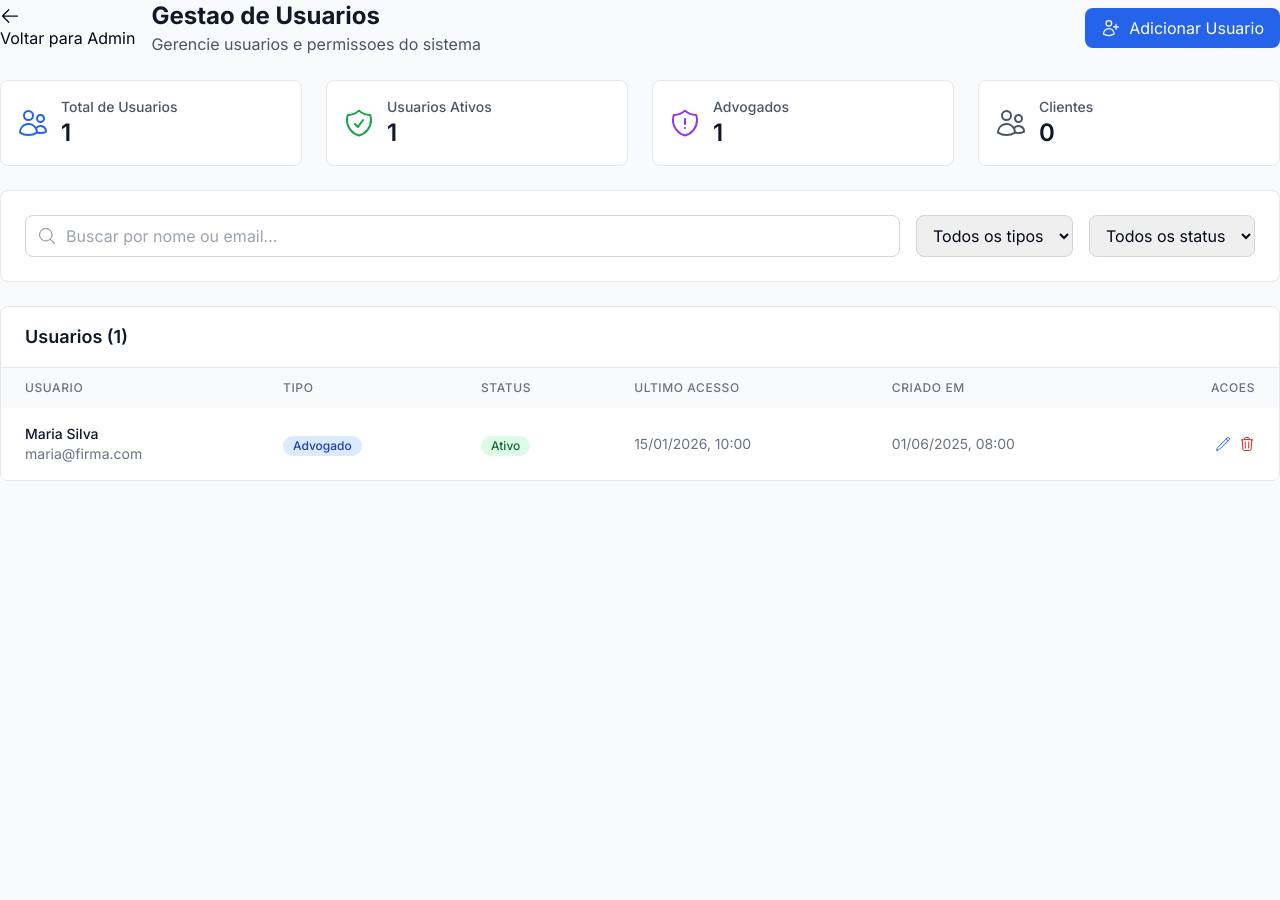
Test: UsersManagementPage › Create modal › closes modal on cancel
Click the button "Adicionar Usuario": (1183, 28) [1085,8,1279,48]
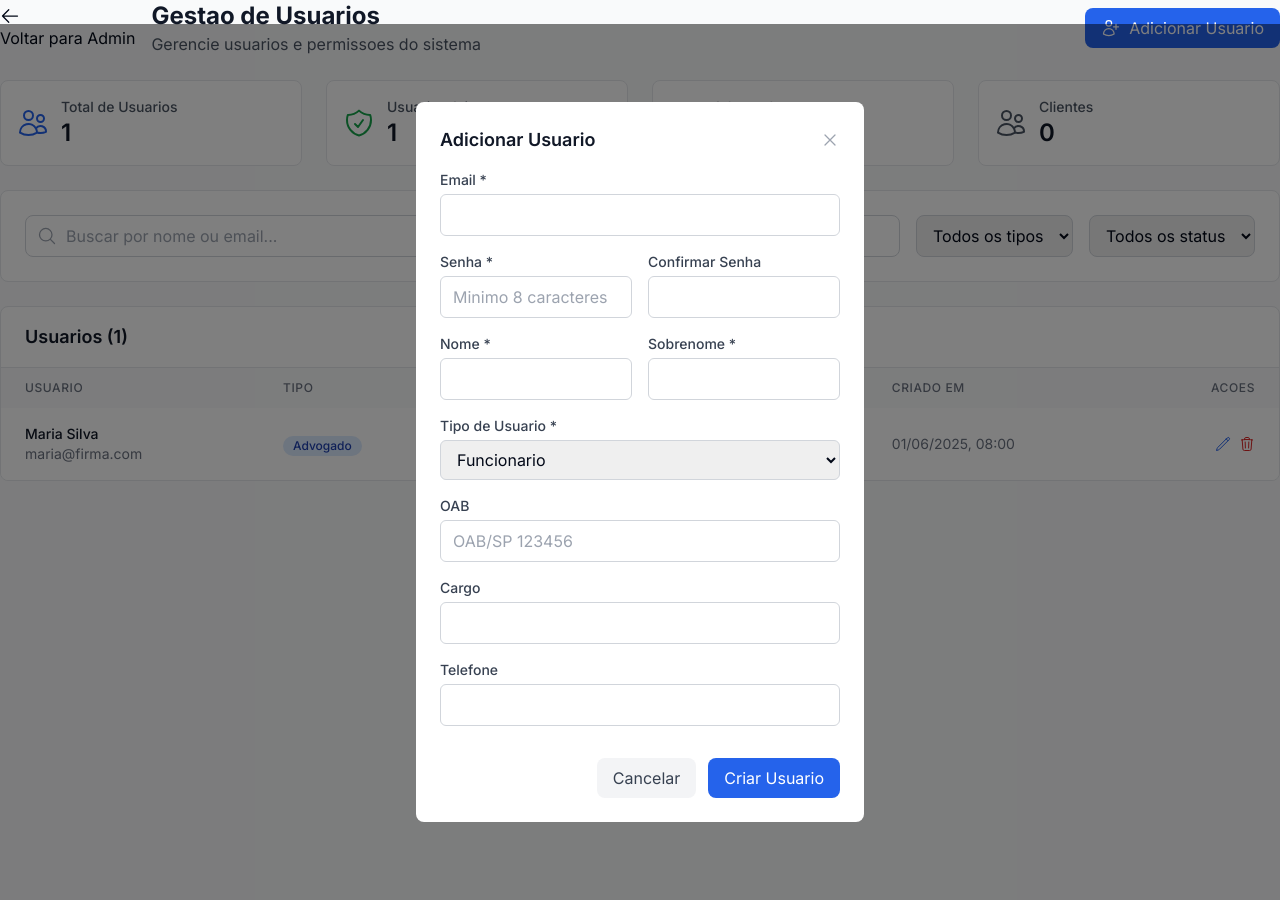
Result: the text "Senha *" is shown at [440,253,493,270]
Click the button "Cancelar": (647, 778) [597,758,696,798]
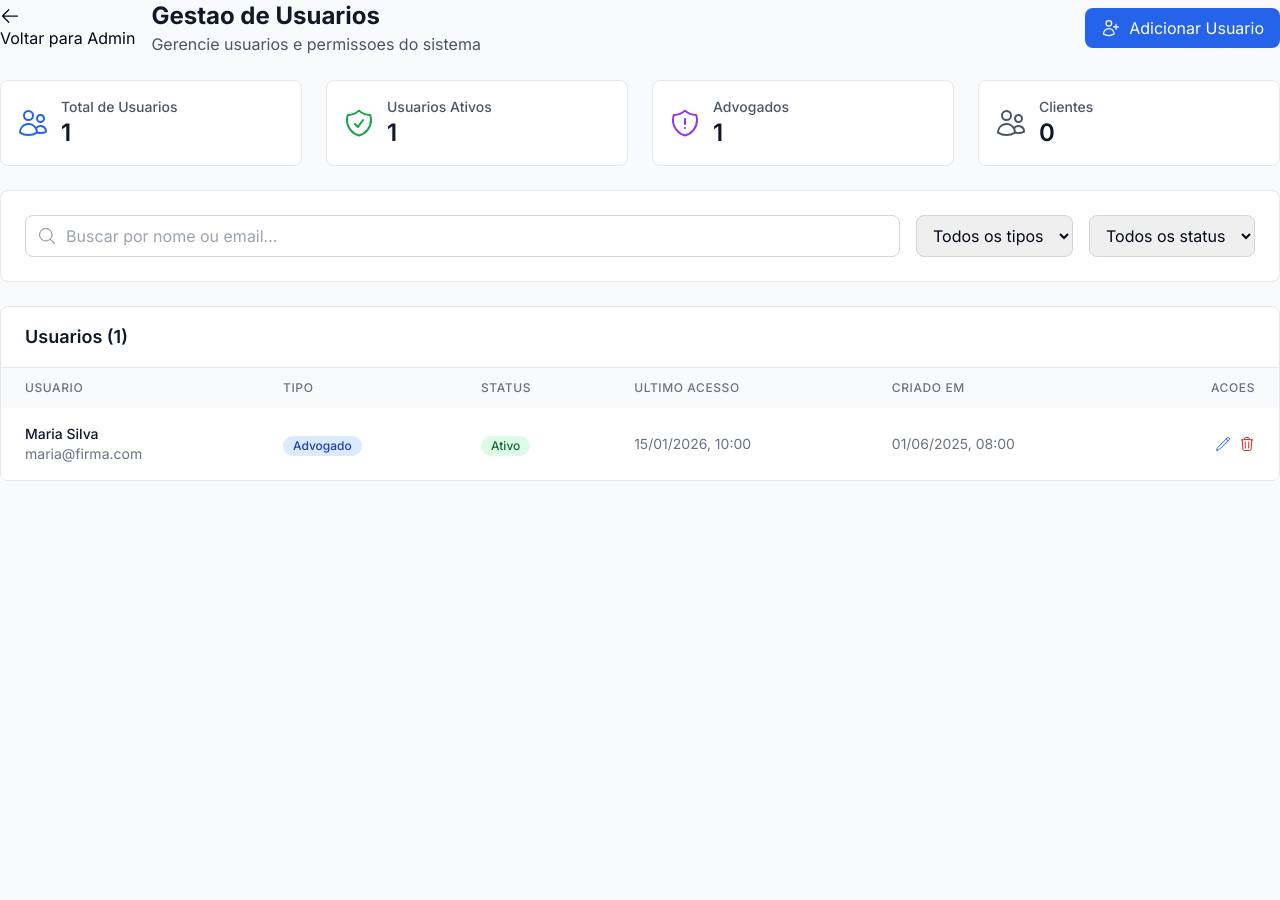
Result: the text "Senha *" is gone
